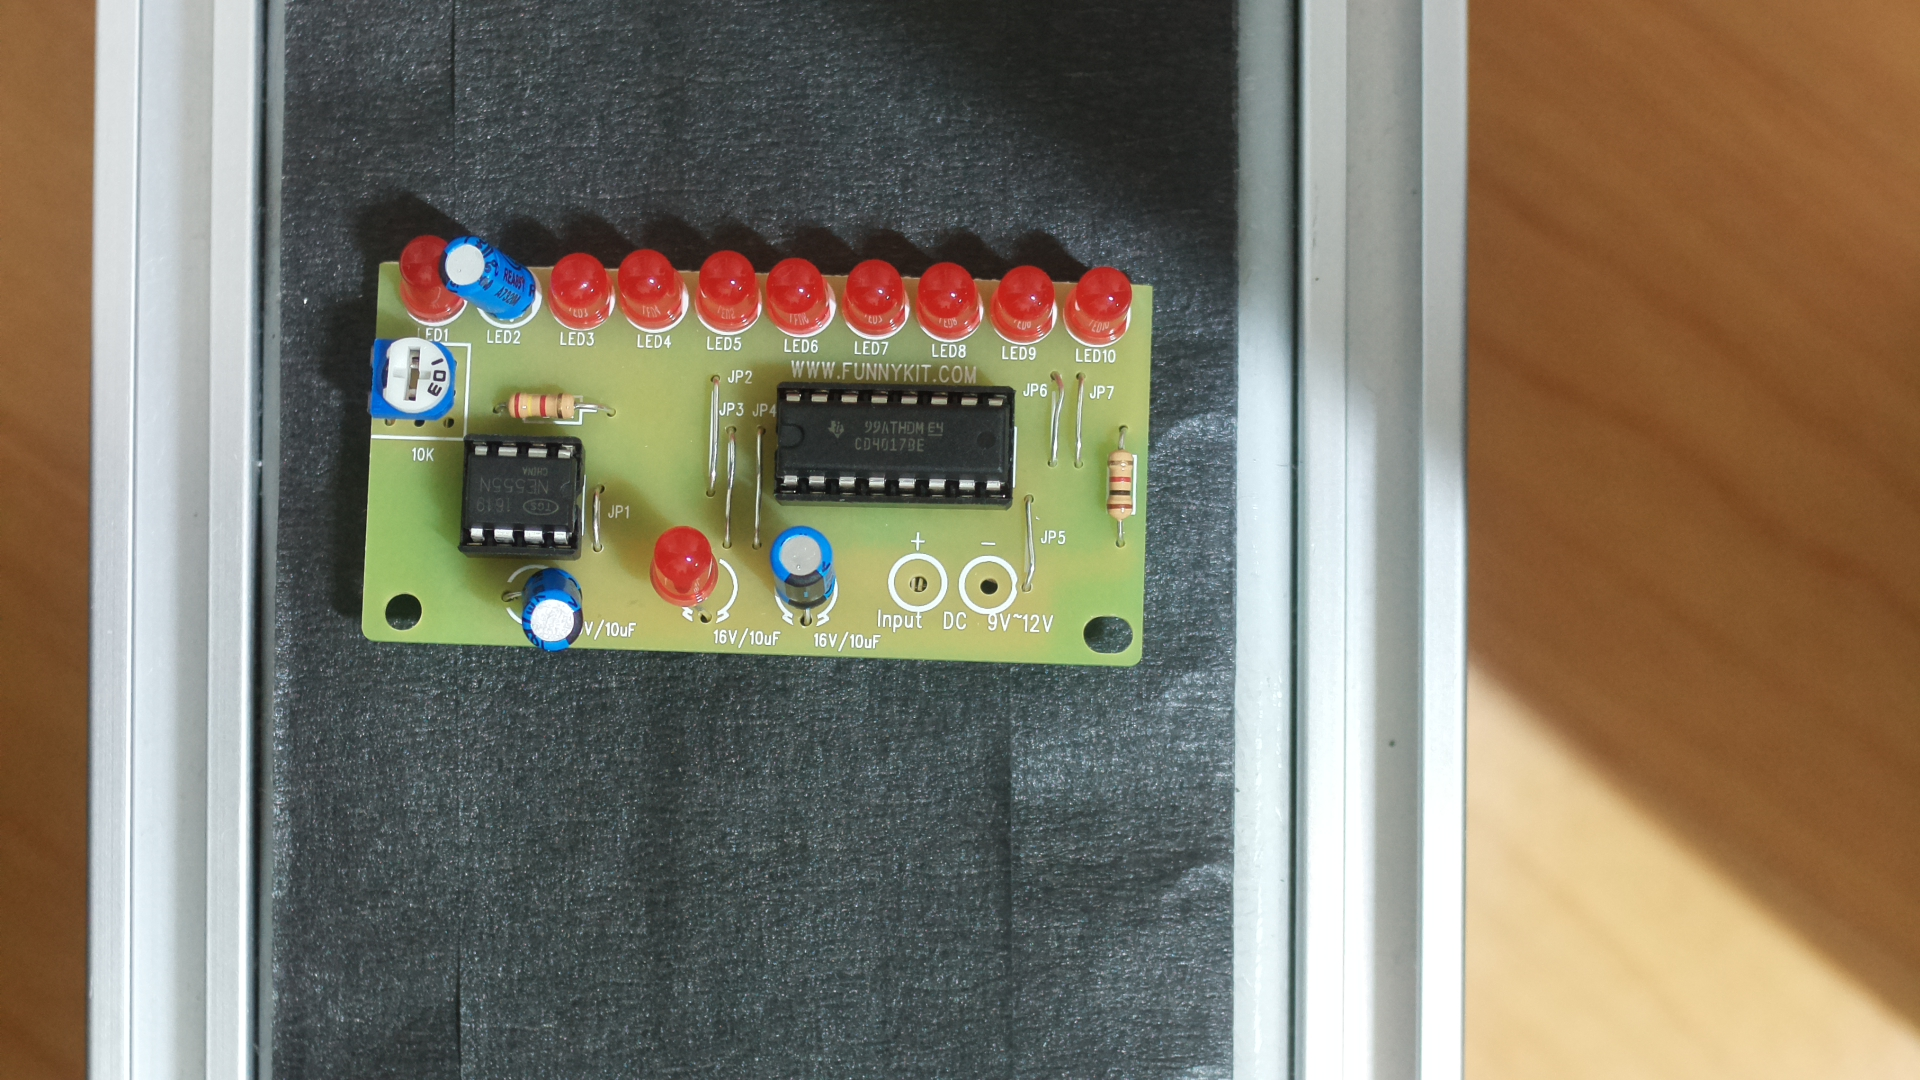B_Misordered: (349, 237, 1168, 696)
